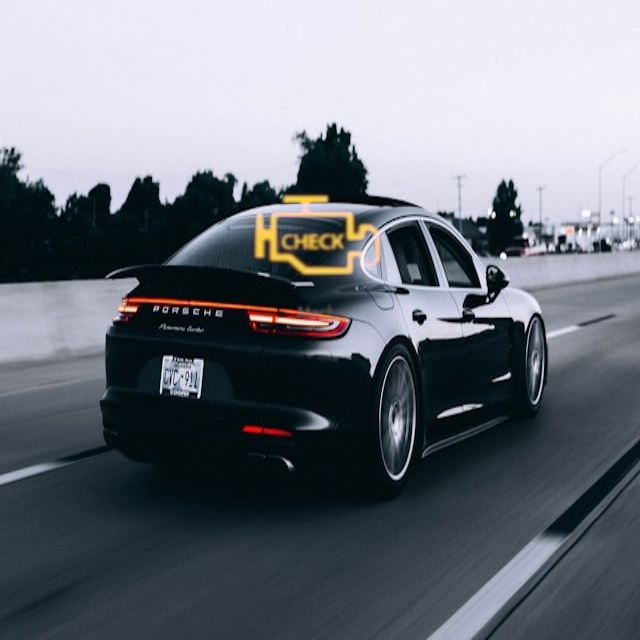symbol: (225, 144, 409, 328)
